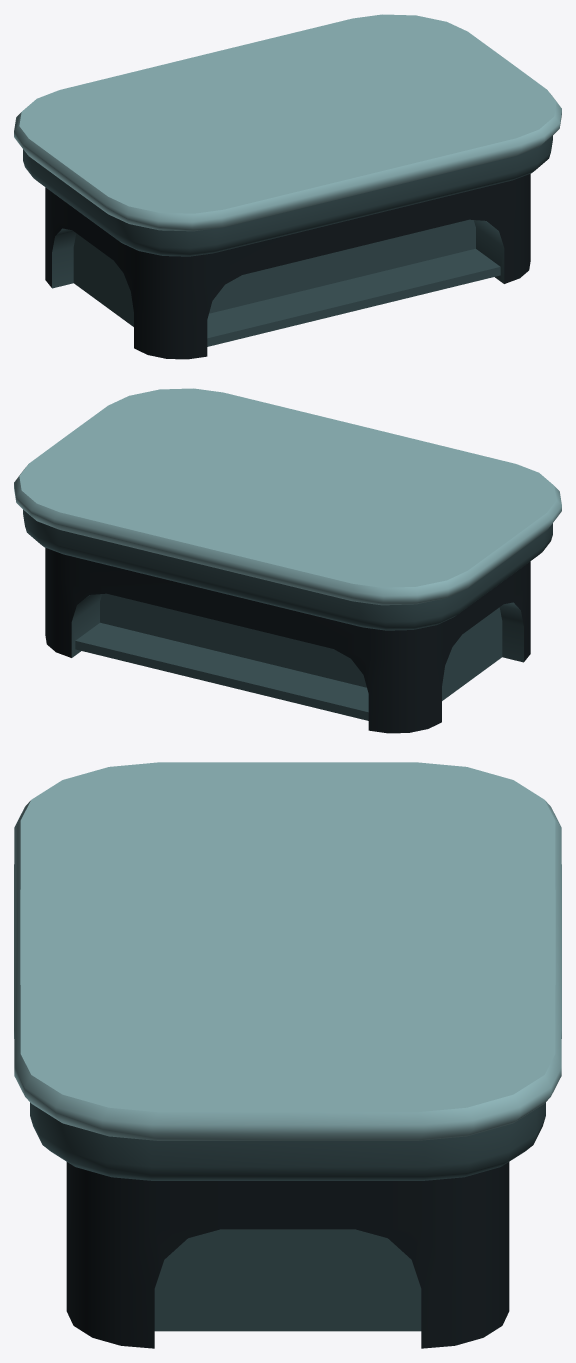
The model's file is FI_033_table_var4.glb.
3 renders of one model, top to bottom at view 1: azimuth 30°, elevation 25°; view 2: azimuth 150°, elevation 25°; view 3: azimuth 270°, elevation 25°, orthographic. The views are drawn at different scales.
Visible parts, largest first — view 1: table_var4; view 2: table_var4; view 3: table_var4.
Part boxes in pixels (x1,y1,x2,y2): table_var4: (14,14,561,359); table_var4: (14,388,561,733); table_var4: (14,762,561,1348).
Bounding box in the file's own units: 2.23 × 0.75 × 1.46.
